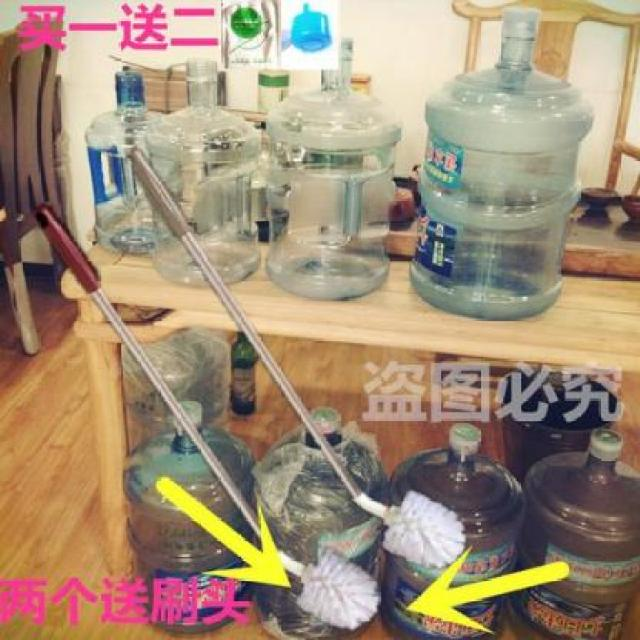coolerbottle: (408, 0, 598, 326)
